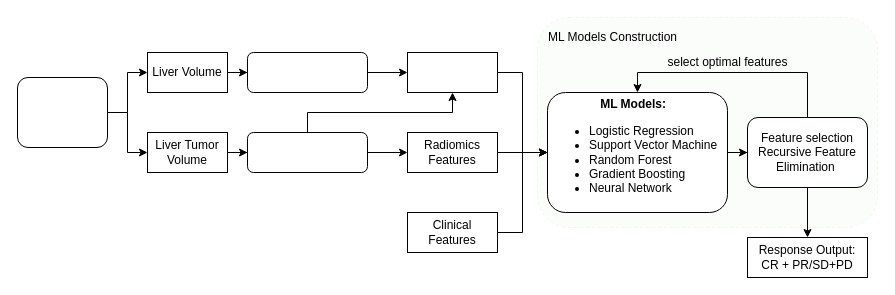
This 895x295 diagram has some shape labels left out. The shapes that lost their labels are listed below. From the top down, each one's centre as x and y in pixels, then its label:
At (x=307, y=72): "Relevant Feature Extraction".
At (x=452, y=72): "Relevant Features".
At (x=62, y=112): "SA-1: Liver and Liver Tumor Segmentation".
At (x=307, y=152): "Radiomics Feature Extraction".
